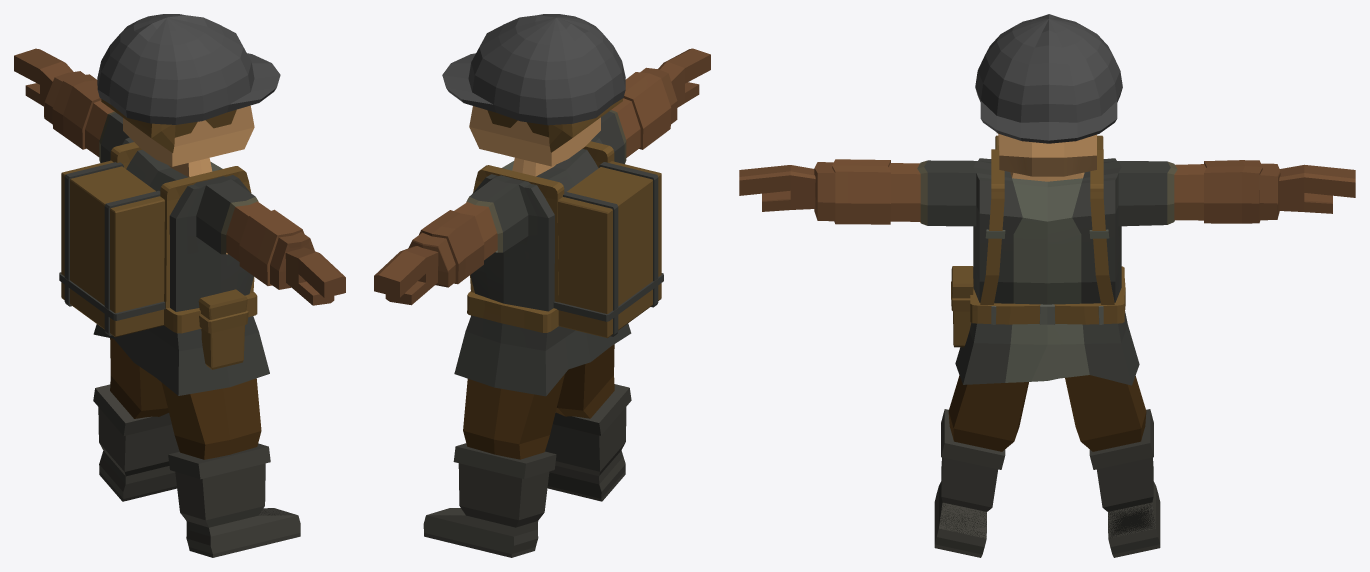
Rendered from Miner.fbx.
The picture shows the model from 3 angles, left to right: view 1: azimuth 30°, elevation 25°; view 2: azimuth 150°, elevation 25°; view 3: azimuth 270°, elevation 25°; orthographic projection.
Visible parts, largest first — view 1: Cube.002, Cube.009, Cube, Circle.001, Cube.010, Cube.004, Cube.008, Cube.001, Cube.007, Cube.003; view 2: Cube.002, Cube.009, Cube, Circle.001, Cube.010, Cube.007, Cube.001, Cube.003, Cube.008; view 3: Cube.002, Cube.009, Circle.001, Cube.001, Cube.003, Cube.010, Cube.007, Cube.008, Cube.004.
Boxes of the visible parts, x1,y1,x2,y2 form: Cube.002: [44, 71, 314, 395]; Cube.009: [93, 338, 300, 557]; Cube: [59, 160, 165, 337]; Circle.001: [97, 14, 280, 124]; Cube.010: [101, 99, 254, 166]; Cube.004: [198, 289, 248, 369]; Cube.008: [285, 247, 345, 305]; Cube.001: [110, 142, 254, 308]; Cube.007: [14, 48, 73, 106]; Cube.003: [164, 292, 257, 333]; Cube.002: [408, 67, 677, 396]; Cube.009: [423, 344, 631, 557]; Cube: [553, 161, 663, 338]; Circle.001: [442, 14, 625, 125]; Cube.010: [469, 98, 622, 166]; Cube.007: [374, 246, 438, 305]; Cube.001: [470, 141, 614, 302]; Cube.003: [467, 291, 558, 332]; Cube.008: [658, 48, 710, 107]; Cube.002: [814, 158, 1280, 385]; Cube.009: [934, 375, 1160, 557]; Circle.001: [975, 14, 1122, 143]; Cube.001: [980, 149, 1114, 304]; Cube.003: [970, 266, 1125, 324]; Cube.010: [996, 132, 1096, 176]; Cube.007: [1279, 164, 1355, 213]; Cube.008: [739, 165, 815, 211]; Cube.004: [951, 266, 973, 347].
Bounding box in the file's own units: 72.08 × 188 × 209.
